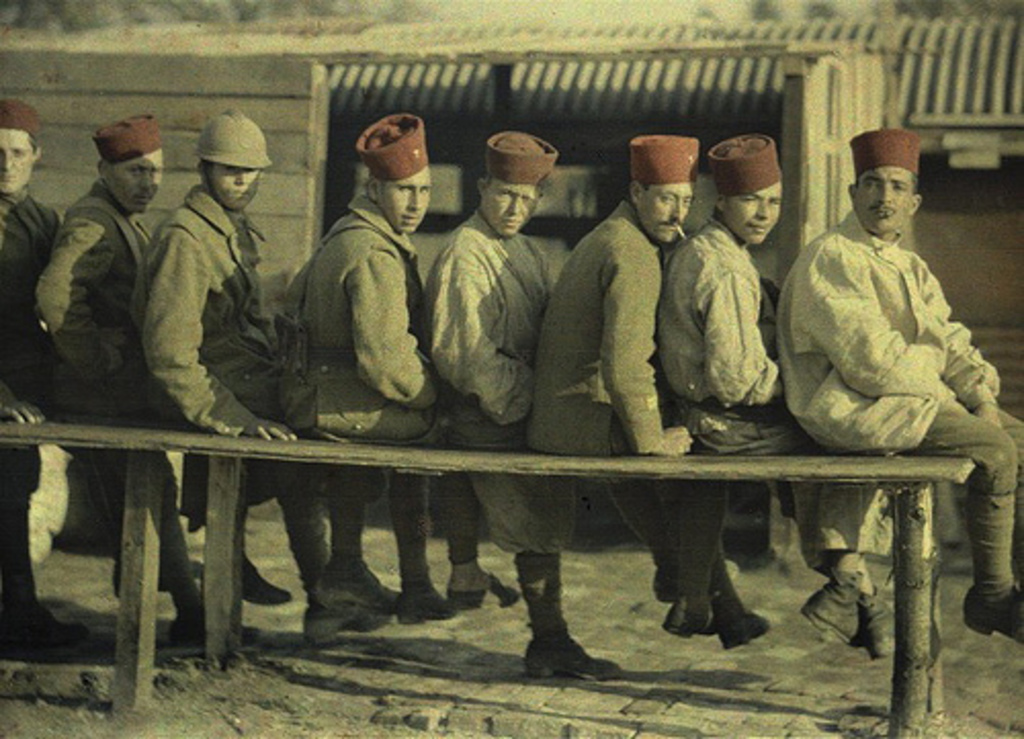face: (0, 125, 33, 190)
